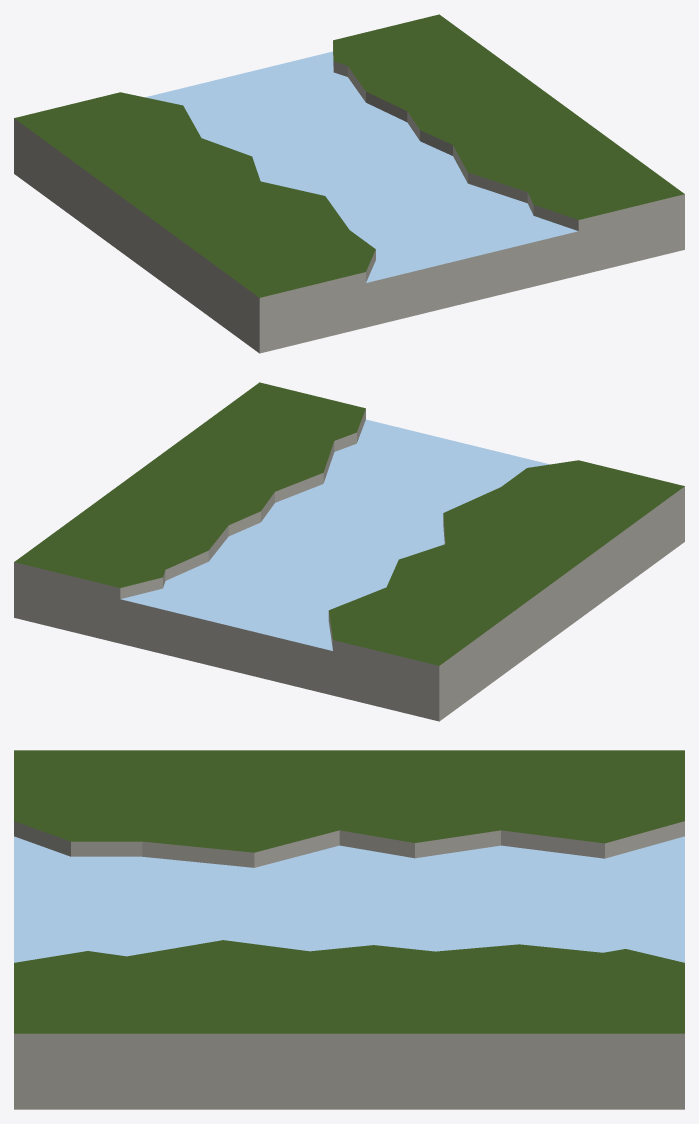
File: Terrain_Tile_Grass_Rock_River_02.fbx
The picture shows the model from 3 angles, top to bottom: view 1: azimuth 30°, elevation 25°; view 2: azimuth 150°, elevation 25°; view 3: azimuth 270°, elevation 25°; orthographic projection. The views are drawn at different scales.
Visible parts, largest first — view 1: Terrain_Tile_Grass_Rock_River_02; view 2: Terrain_Tile_Grass_Rock_River_02; view 3: Terrain_Tile_Grass_Rock_River_02.
Boxes of the visible parts, box(x1,y1,x2,y2) form: Terrain_Tile_Grass_Rock_River_02: box(14, 14, 684, 353); Terrain_Tile_Grass_Rock_River_02: box(14, 382, 684, 721); Terrain_Tile_Grass_Rock_River_02: box(14, 750, 684, 1109).
Bounding box in the file's own units: 126 × 15.75 × 126.
